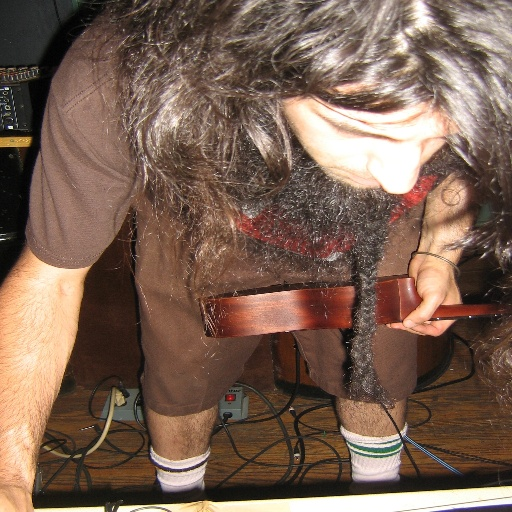hand: (385, 259, 462, 337)
